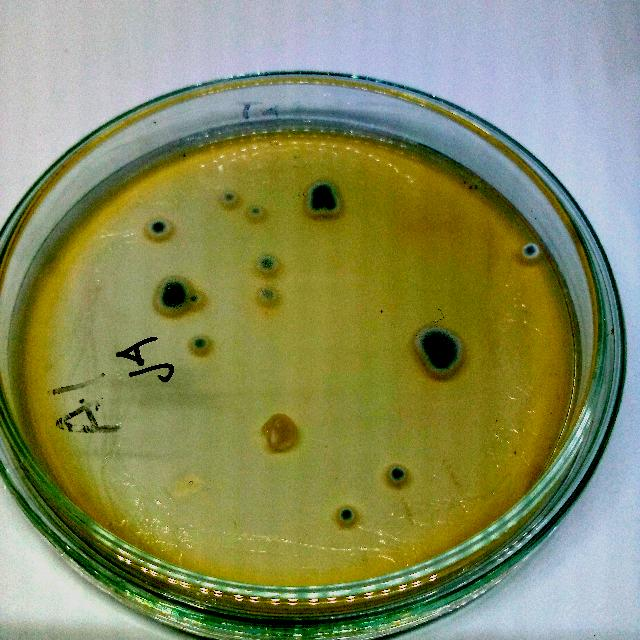colony: (412, 321, 470, 382), (255, 411, 307, 459), (306, 177, 340, 220), (157, 278, 190, 312), (332, 502, 360, 530), (144, 217, 174, 243), (515, 238, 543, 264), (254, 250, 282, 276), (183, 331, 210, 357), (384, 462, 411, 486), (254, 284, 282, 304), (222, 188, 240, 208), (248, 202, 266, 218), (187, 292, 201, 306)
